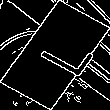L_NW: (21, 28, 89, 82)
